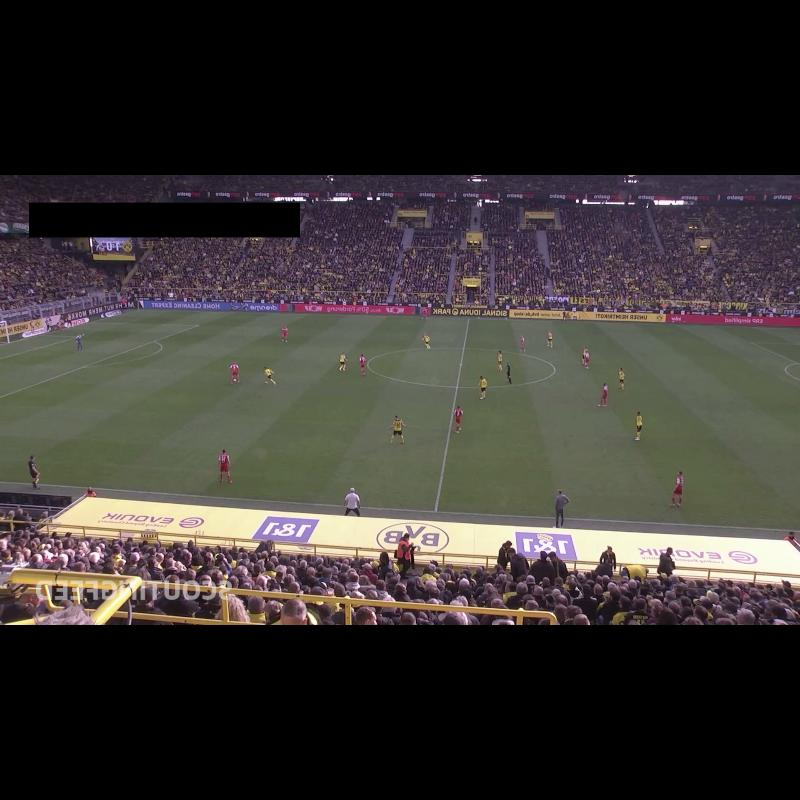cross_recipient_zone: (0, 322, 199, 397), (751, 343, 800, 365)
crossing_player_zone: (91, 310, 285, 326), (658, 325, 800, 343), (0, 420, 48, 456)
pitch: (0, 309, 800, 531)
